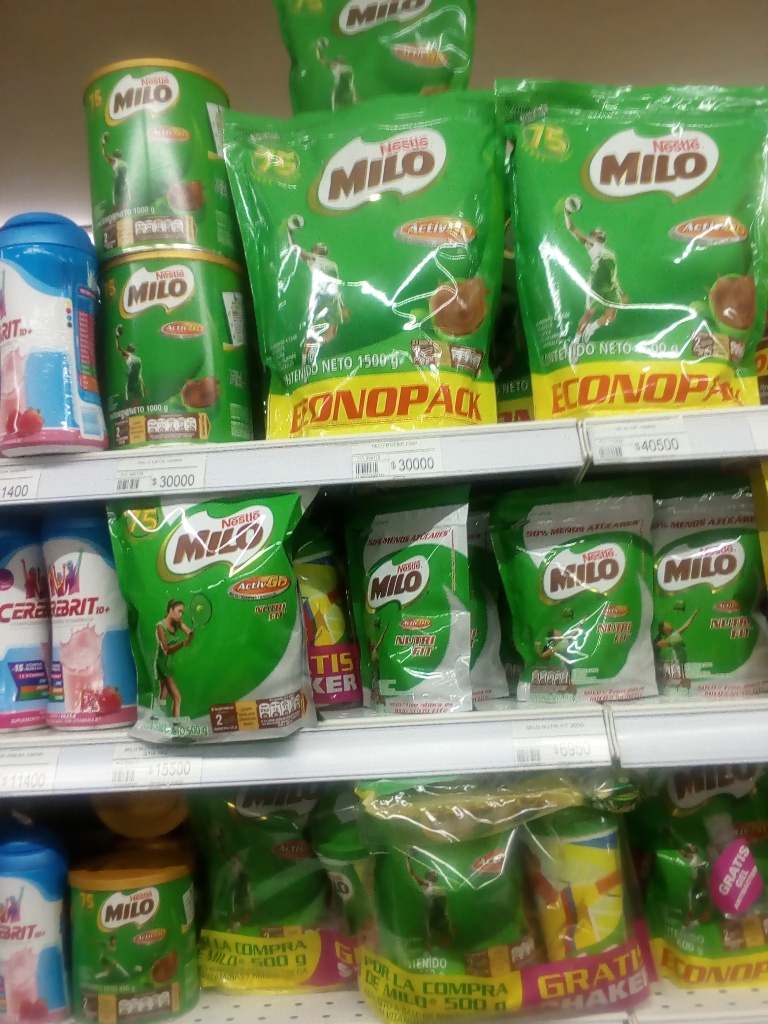COL0170203DYP50000: (503, 71, 762, 411)
COL0170203LAT40000: (73, 876, 195, 1021)
COL0170205DYP20000: (338, 483, 492, 725)
COL0170205DYP50000: (115, 497, 312, 738)
